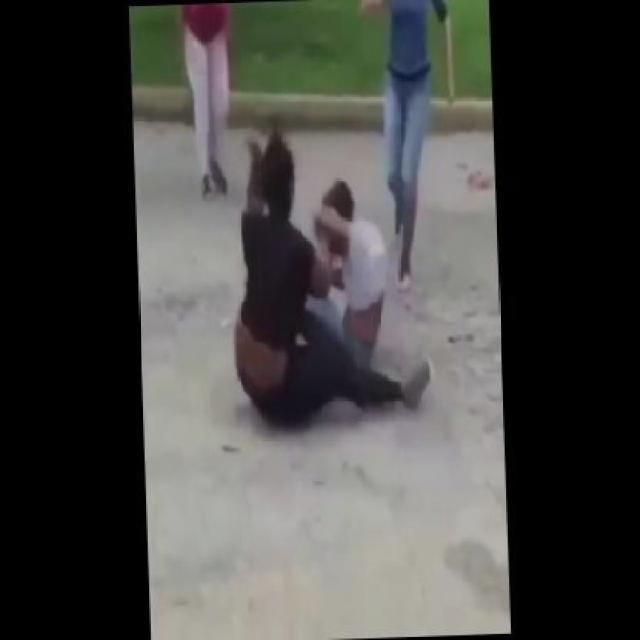fight: (202, 137, 437, 441)
